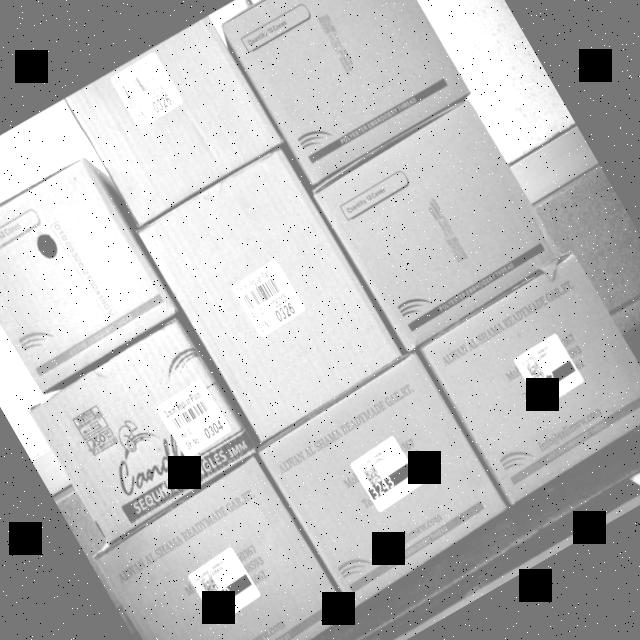box: (136, 142, 406, 442), (254, 347, 514, 609), (308, 94, 566, 354), (22, 312, 263, 550), (425, 261, 640, 513), (91, 455, 363, 640), (212, 0, 473, 192), (0, 147, 184, 402), (66, 16, 283, 228)
